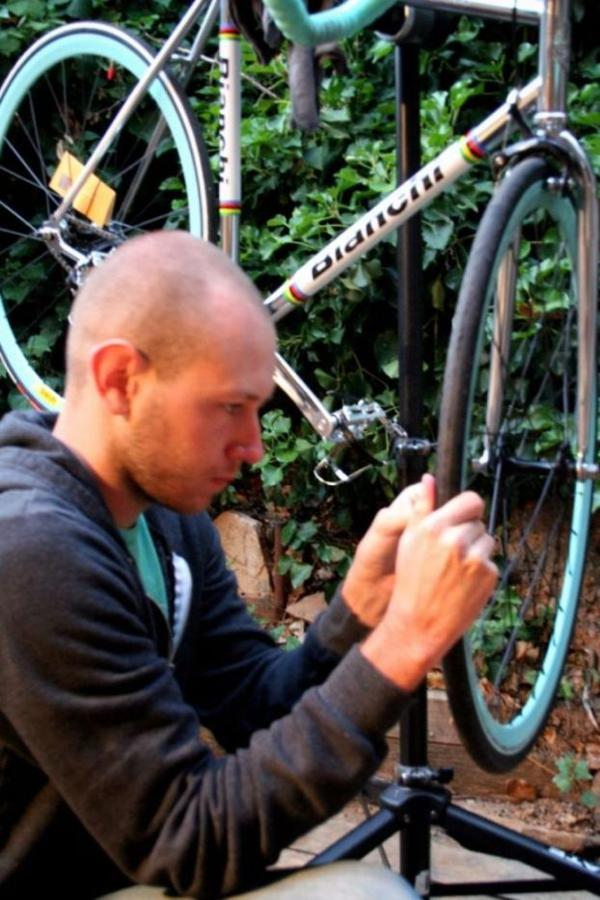person: (3, 233, 499, 900)
